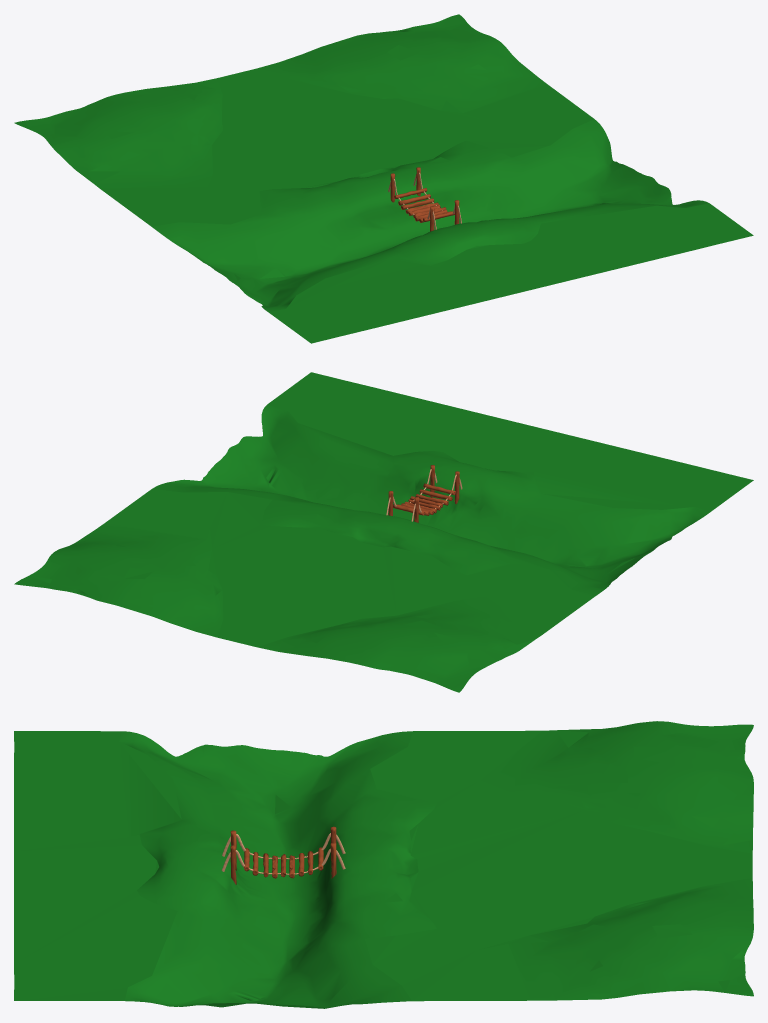
Rendered from pont.glb.
3 renders of one model, top to bottom at view 1: azimuth 30°, elevation 25°; view 2: azimuth 150°, elevation 25°; view 3: azimuth 270°, elevation 25°, orthographic. The views are drawn at different scales.
Visible parts, largest first — view 1: Plane, Cylinder; view 2: Plane, Cylinder; view 3: Plane, Cylinder.
Boxes of the visible parts, x1,y1,x2,y2 form: Plane: (14,14,753,343); Cylinder: (388,167,461,231); Plane: (14,372,753,692); Cylinder: (386,465,462,522); Plane: (14,721,753,1008); Cylinder: (221,826,345,884).
Bounding box in the file's own units: 38.8 × 4.78 × 44.65.
